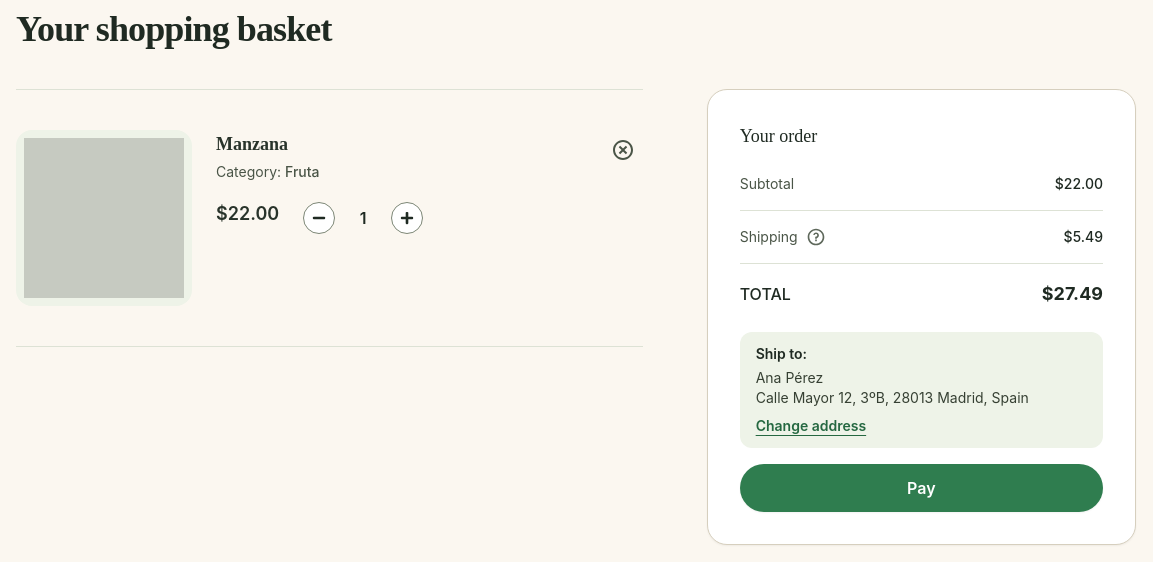
ShopScreen summary › converts the fee and the limit when the shop is in dollars
The image size is (1153, 562).
Check: the text "$5.49" is shown, box [1064,227,1103,247]
Check: the text "$27.49" is shown, box [1042,280,1103,308]
Hover over the button named "More information about shipping" at (816, 237), box [806,227,826,247]
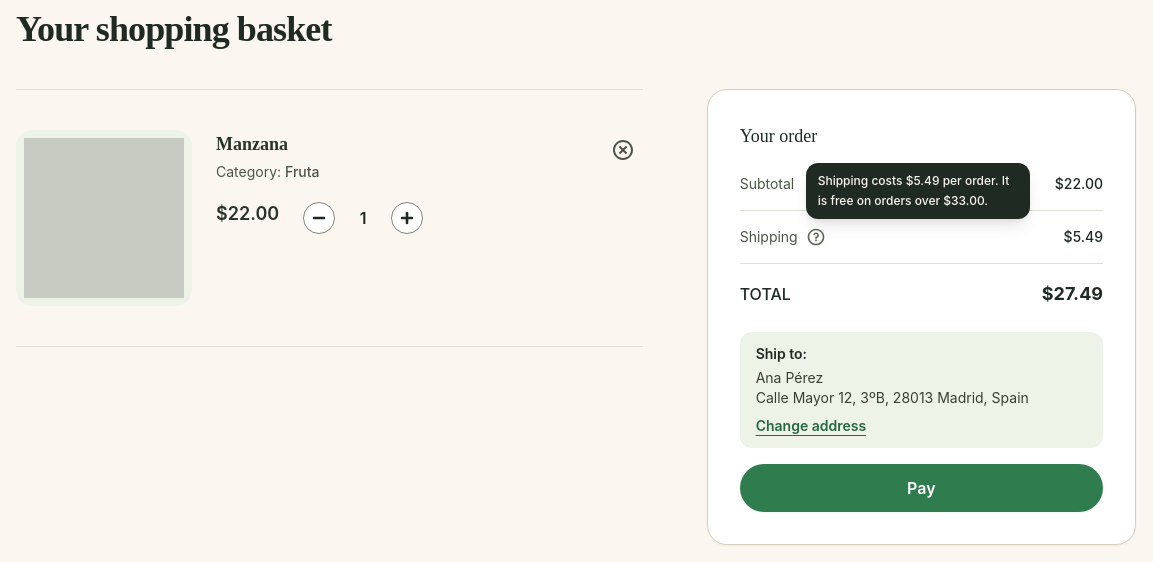
Check: the tooltip reads "Shipping costs $5.49 per order. It is free on orders over $33.00.", box [818,173,1009,208]
